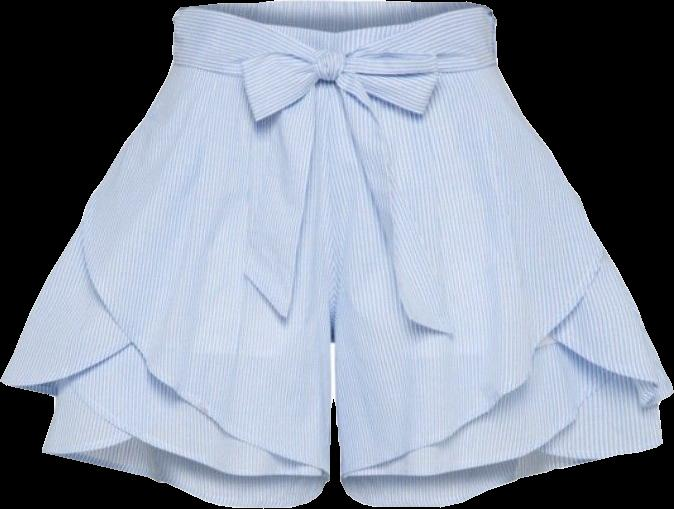Hemline: (79, 221, 331, 478), (339, 250, 610, 479), (341, 368, 620, 480), (65, 379, 330, 484), (341, 441, 664, 508), (39, 447, 328, 508), (549, 330, 666, 405), (0, 339, 131, 391)
Pantleg: (334, 0, 673, 506), (0, 0, 336, 507)
Waistline: (180, 2, 487, 56), (170, 57, 498, 83)
